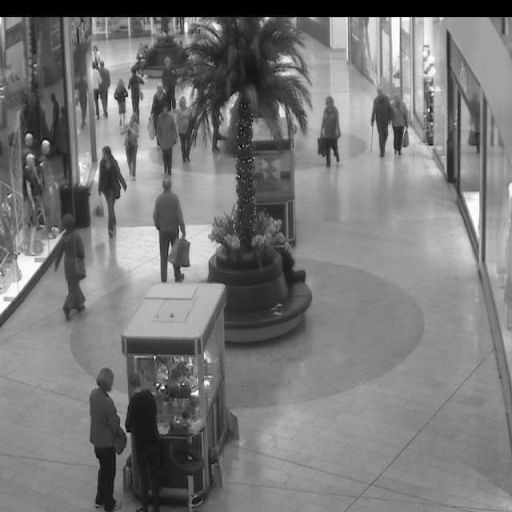person: (122, 372, 161, 511), (89, 366, 123, 510), (152, 177, 186, 282), (56, 214, 89, 320), (97, 146, 128, 236), (156, 104, 176, 178), (320, 95, 341, 163), (372, 87, 390, 154), (175, 95, 192, 161), (123, 112, 139, 180), (392, 91, 407, 155), (99, 60, 113, 119), (161, 56, 177, 107), (128, 67, 144, 112), (89, 60, 100, 117), (114, 77, 129, 117), (152, 84, 166, 121), (90, 43, 100, 64)
